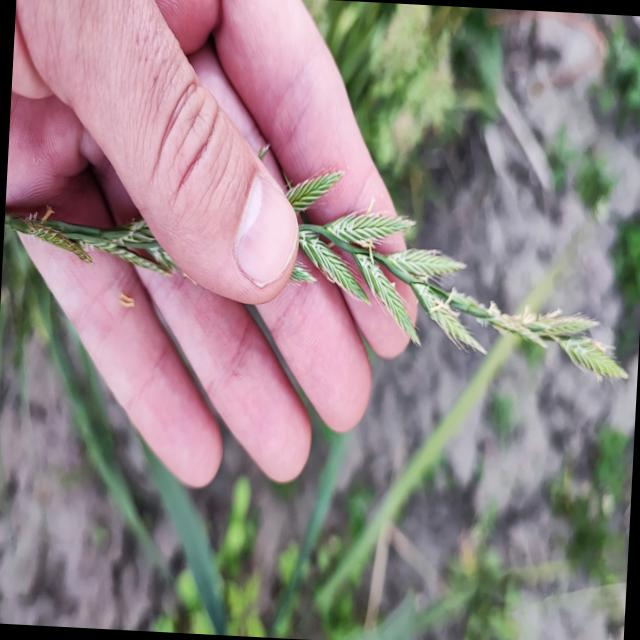Lolium: (0, 129, 639, 388)
